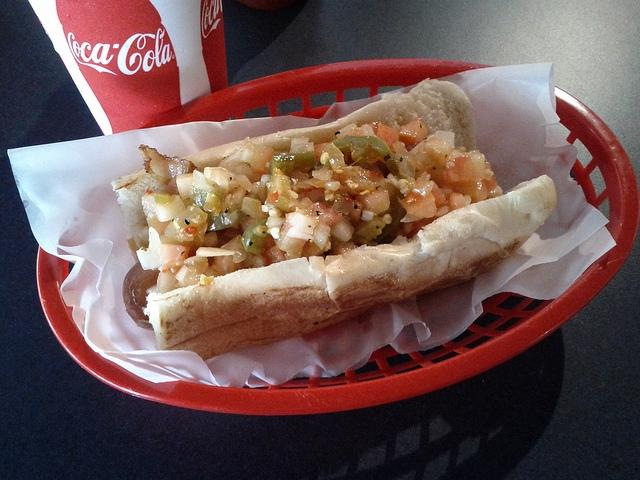tomato: (218, 141, 274, 174), (268, 152, 316, 178), (398, 190, 437, 222), (439, 151, 474, 183), (354, 188, 390, 216), (398, 116, 431, 146), (306, 202, 342, 229), (159, 244, 191, 272), (456, 180, 488, 205), (324, 142, 348, 171), (377, 123, 399, 154), (222, 236, 246, 262), (241, 198, 266, 220), (330, 194, 354, 215), (264, 244, 286, 266), (431, 182, 446, 208), (203, 192, 220, 212)
